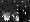person: (11, 11, 19, 21), (5, 9, 11, 20)
